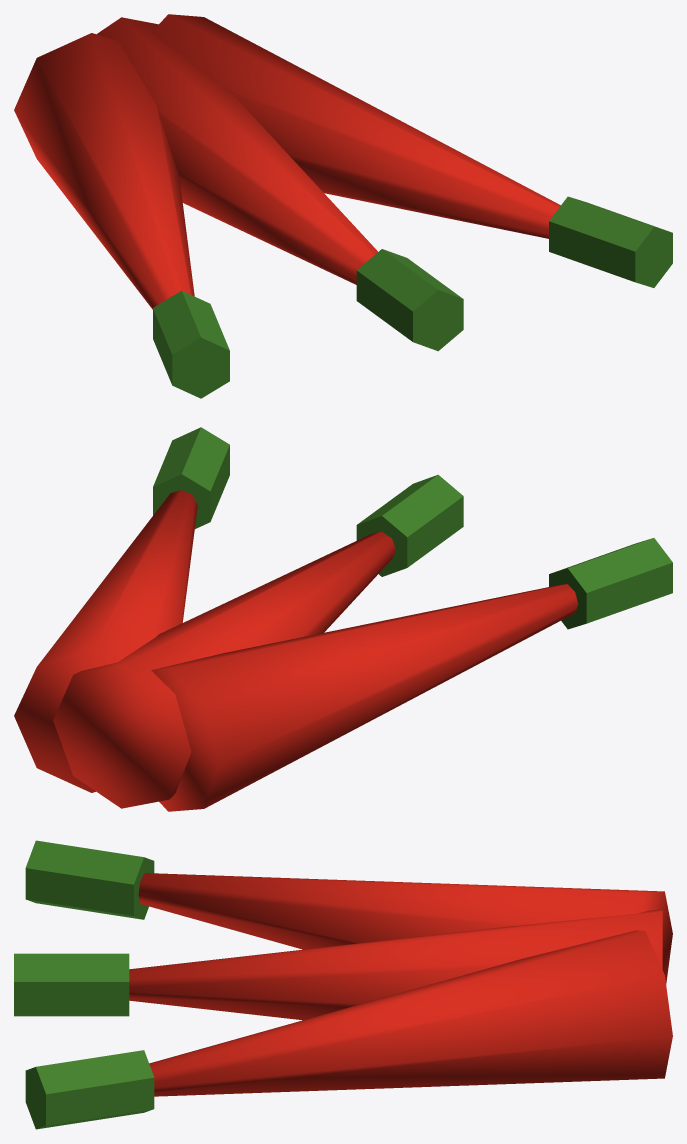
Rendered from chili.glb.
3 views of the same model, one above another, from view 1: azimuth 30°, elevation 25°; view 2: azimuth 150°, elevation 25°; view 3: azimuth 270°, elevation 25° (orthographic). The views are drawn at different scales.
Parts seen in each view (by area): view 1: chili; view 2: chili; view 3: chili.
Part boxes in pixels (left/top/right/bottom): chili: left=14, top=14, right=672, bottom=398; chili: left=14, top=427, right=672, bottom=811; chili: left=14, top=840, right=672, bottom=1129.
Size of the model in its own units: 0.2052 by 0.056 by 0.2285.
